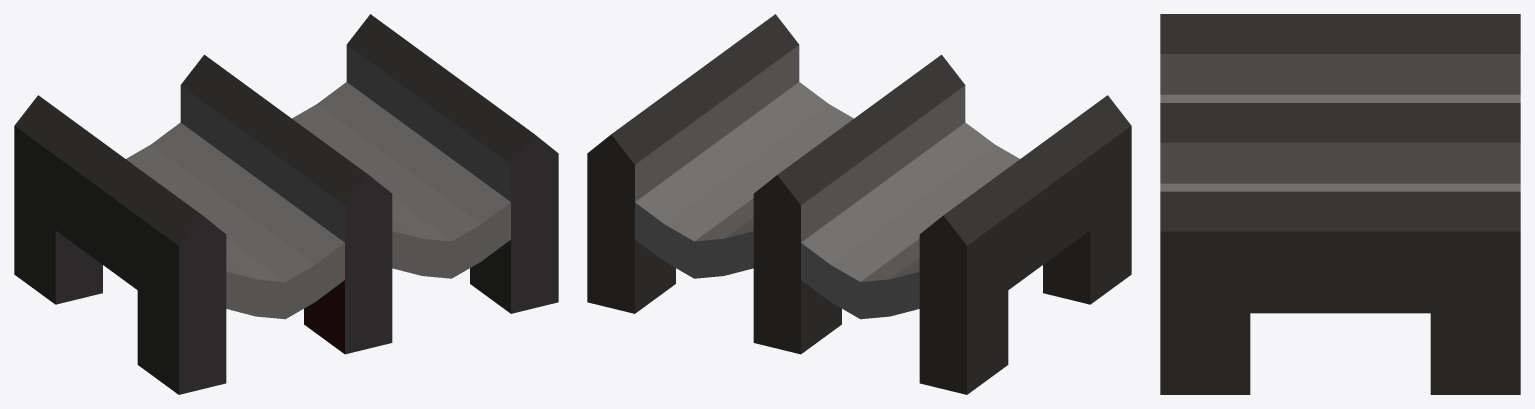
Rendered from Feeder Middle Section.fbx.
The picture shows the model from 3 angles, left to right: view 1: azimuth 30°, elevation 25°; view 2: azimuth 150°, elevation 25°; view 3: azimuth 270°, elevation 25°; orthographic projection. The views are drawn at different scales.
Parts seen in each view (by area): view 1: Feeder Middle Section; view 2: Feeder Middle Section; view 3: Feeder Middle Section.
Part boxes in pixels (x1=…): Feeder Middle Section: x1=14, y1=14, x2=558, y2=394; Feeder Middle Section: x1=587, y1=14, x2=1131, y2=394; Feeder Middle Section: x1=1160, y1=14, x2=1520, y2=394.
Size of the model in its own units: 1600 by 700 by 1200.
